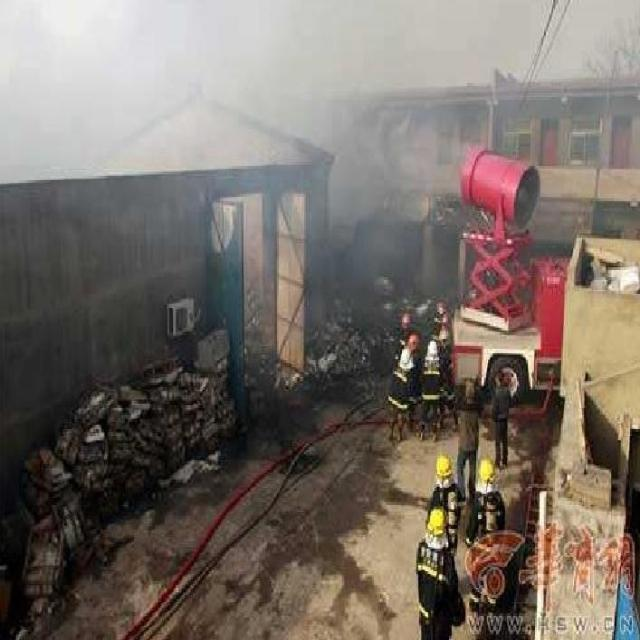Smoke: (0, 4, 464, 229)
